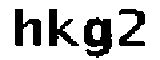2: (117, 5, 147, 49)
g: (82, 16, 115, 60)
h: (11, 7, 43, 52)
k: (46, 3, 78, 50)
